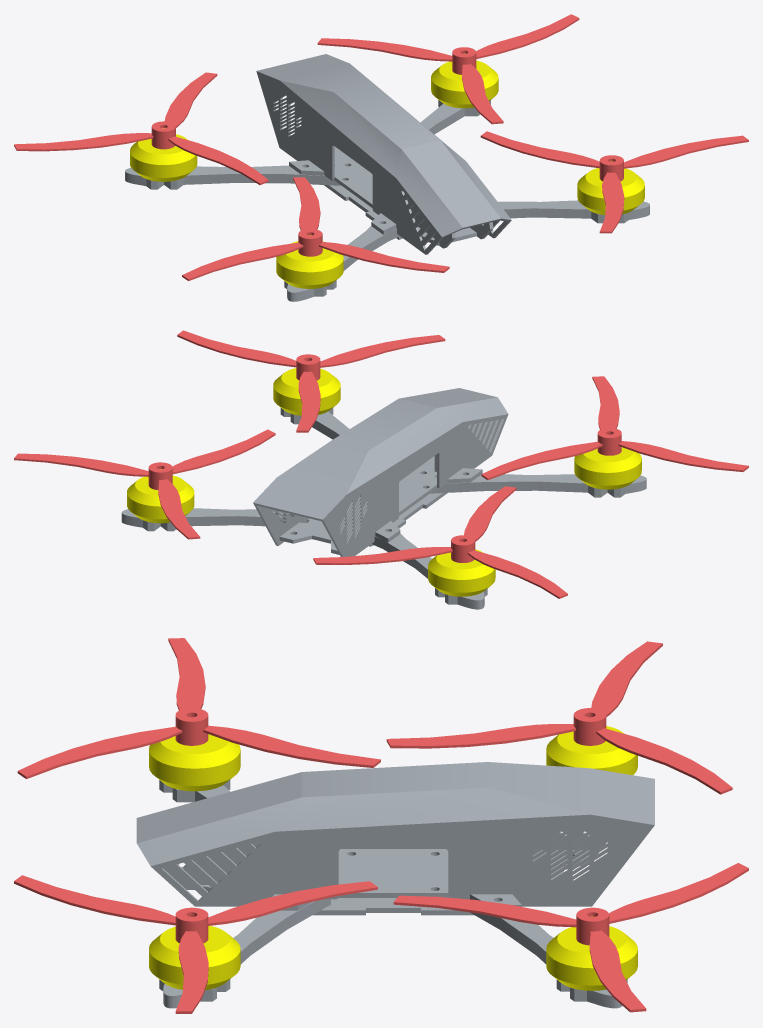
File: 1T_Vector_FullV3.fbx
3 renders of one model, top to bottom at view 1: azimuth 30°, elevation 25°; view 2: azimuth 150°, elevation 25°; view 3: azimuth 270°, elevation 25°, orthographic. The views are drawn at different scales.
Parts seen in each view (by area): view 1: SOLID, Prop6Inc.003, Prop6Inc.002, Prop6Inc, Prop6Inc.001, Луч 4, BLDC-Motor.001, BLDC-Motor.002, Луч 2, BLDC-Motor.003, BLDC-Motor, Пластина низ (+3 smaller); view 2: SOLID, Prop6Inc.002, Prop6Inc.003, Prop6Inc, Prop6Inc.001, Луч 1, BLDC-Motor.001, Пластина низ, BLDC-Motor.002, Луч 3, BLDC-Motor.003, BLDC-Motor (+3 smaller); view 3: SOLID, Prop6Inc.003, Prop6Inc.002, Prop6Inc, Prop6Inc.001, Пластина низ, BLDC-Motor.001, BLDC-Motor.003, BLDC-Motor, Луч 2, BLDC-Motor.002, Луч 3 (+3 smaller).
Boxes of the visible parts, <box> form: SOLID: <box>256,54,511,254</box>; Prop6Inc.003: <box>14,72,268,184</box>; Prop6Inc.002: <box>182,177,449,280</box>; Prop6Inc: <box>317,14,579,124</box>; Prop6Inc.001: <box>480,131,748,233</box>; Луч 4: <box>125,165,340,189</box>; BLDC-Motor.001: <box>276,235,343,288</box>; BLDC-Motor.002: <box>130,128,197,181</box>; Луч 2: <box>498,200,649,223</box>; BLDC-Motor.003: <box>431,53,498,108</box>; BLDC-Motor: <box>577,161,644,214</box>; Пластина низ: <box>334,146,476,245</box>; SOLID: <box>253,388,508,556</box>; Prop6Inc.002: <box>481,376,748,480</box>; Prop6Inc.003: <box>313,486,567,598</box>; Prop6Inc: <box>14,429,275,539</box>; Prop6Inc.001: <box>177,330,445,432</box>; Луч 1: <box>430,474,646,497</box>; BLDC-Motor.001: <box>574,441,641,489</box>; Пластина низ: <box>279,456,437,554</box>; BLDC-Motor.002: <box>428,549,495,596</box>; Луч 3: <box>121,508,309,531</box>; BLDC-Motor.003: <box>127,469,194,523</box>; BLDC-Motor: <box>273,368,340,415</box>; SOLID: <box>136,762,654,910</box>; Prop6Inc.003: <box>386,641,732,794</box>; Prop6Inc.002: <box>17,638,380,778</box>; Prop6Inc: <box>393,863,748,1012</box>; Prop6Inc.001: <box>14,875,377,1013</box>; Пластина низ: <box>201,850,589,897</box>; BLDC-Motor.001: <box>149,734,240,791</box>; BLDC-Motor.003: <box>546,916,637,990</box>; BLDC-Motor: <box>149,925,240,989</box>; Луч 2: <box>159,899,330,1008</box>; BLDC-Motor.002: <box>546,726,637,775</box>; Луч 3: <box>470,912,627,1008</box>.
Bounding box in the file's own units: 32.24 × 4.81 × 26.83.
